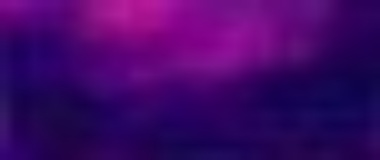Shadow: (1, 66, 379, 160), (1, 1, 81, 67), (309, 1, 380, 67)
